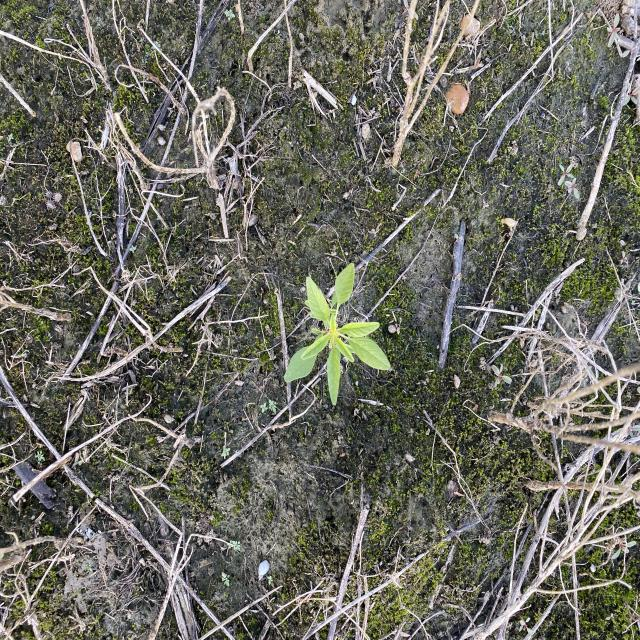Waterhemp: (283, 262, 392, 406)
